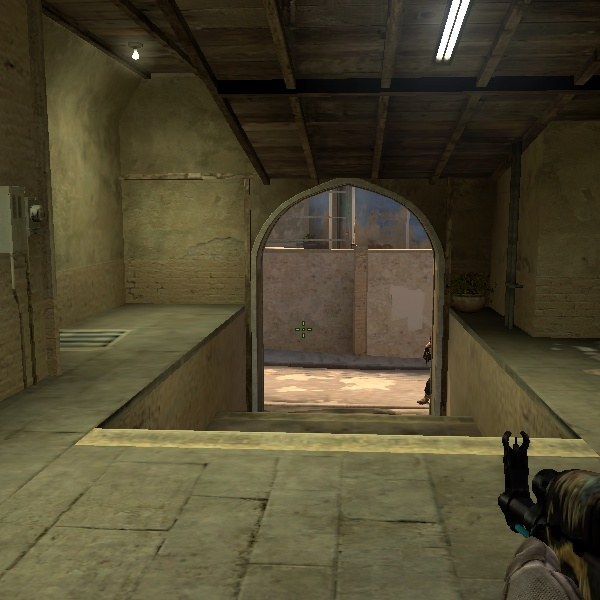t_body: (414, 336, 437, 401)
